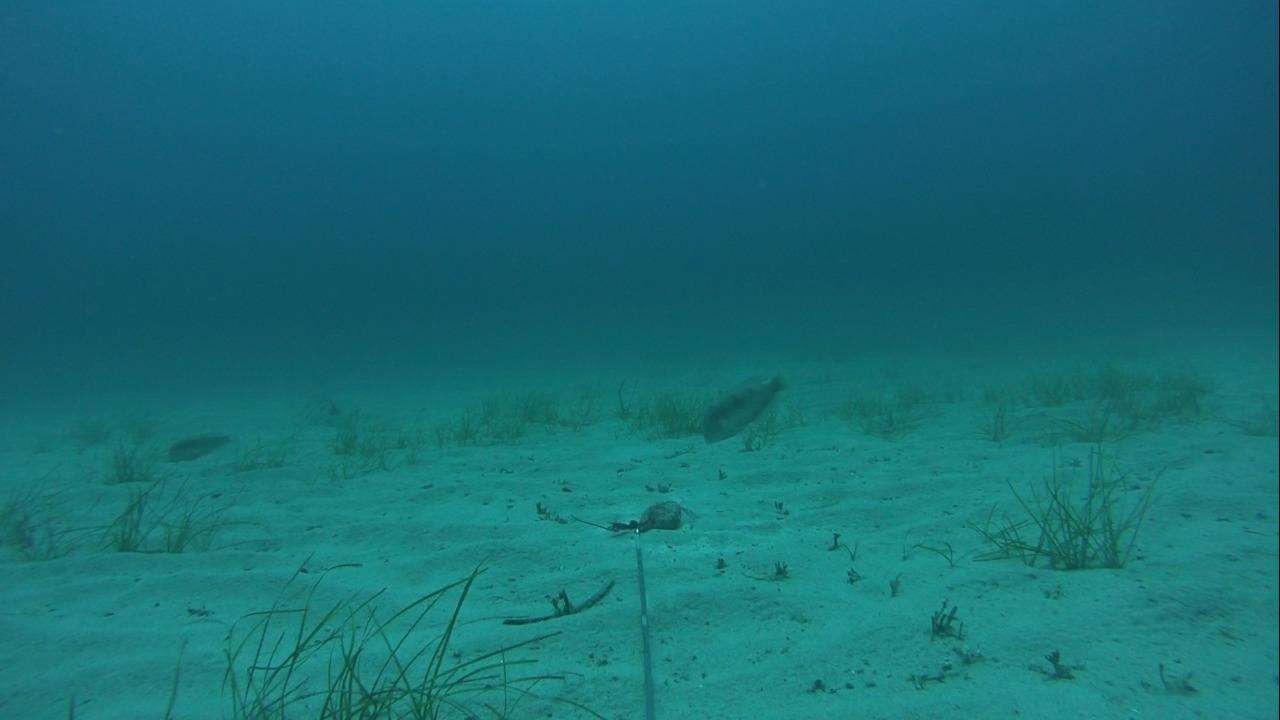raor: (697, 375, 790, 443), (164, 429, 230, 466)
